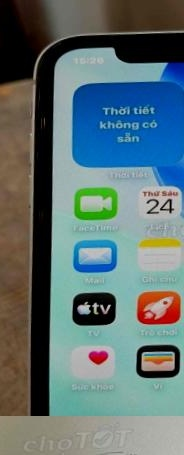scratch: (49, 428, 184, 455)
